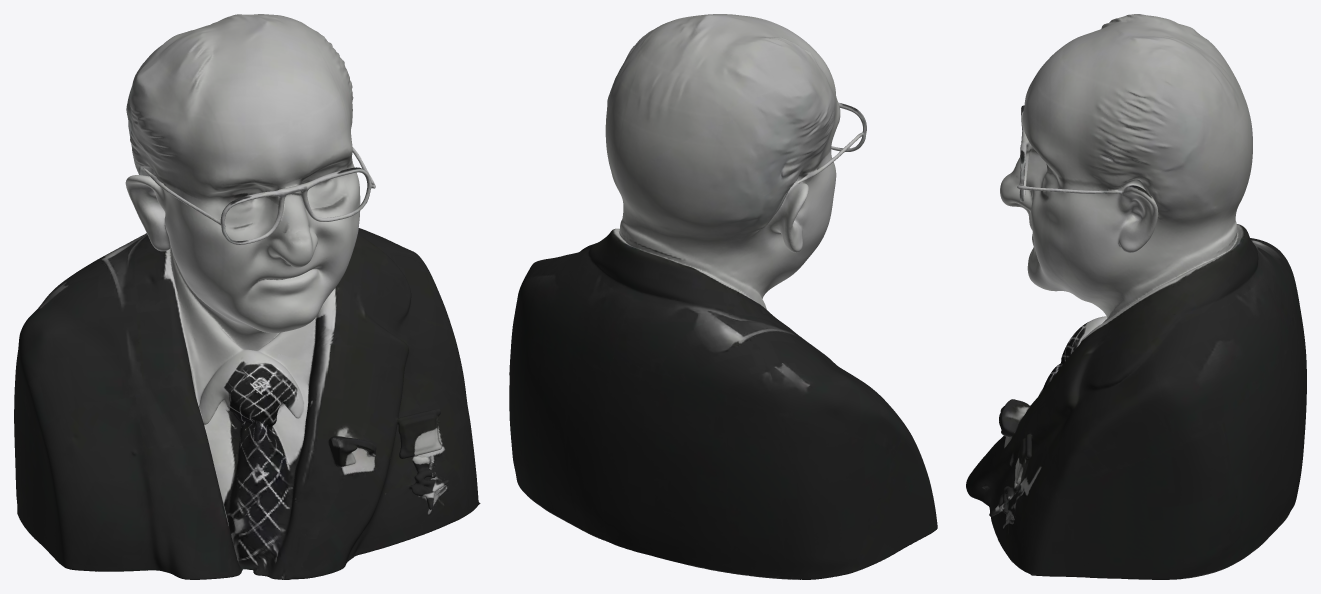
The model's file is MAN.glb.
3 views of the same model, side by side, from view 1: azimuth 30°, elevation 25°; view 2: azimuth 150°, elevation 25°; view 3: azimuth 270°, elevation 25° (orthographic). The views are drawn at different scales.
Parts seen in each view (by area): view 1: tripo_node_c714a423-6b45-4657-8efc-7da92193e444; view 2: tripo_node_c714a423-6b45-4657-8efc-7da92193e444; view 3: tripo_node_c714a423-6b45-4657-8efc-7da92193e444.
Part boxes in pixels (<box>): tripo_node_c714a423-6b45-4657-8efc-7da92193e444: <box>14,14,480,579</box>; tripo_node_c714a423-6b45-4657-8efc-7da92193e444: <box>509,14,937,579</box>; tripo_node_c714a423-6b45-4657-8efc-7da92193e444: <box>966,14,1306,579</box>.
Bounding box in the file's own units: 0.8417 × 1 × 0.6672.
Materials: 1 (1 with a texture image).
